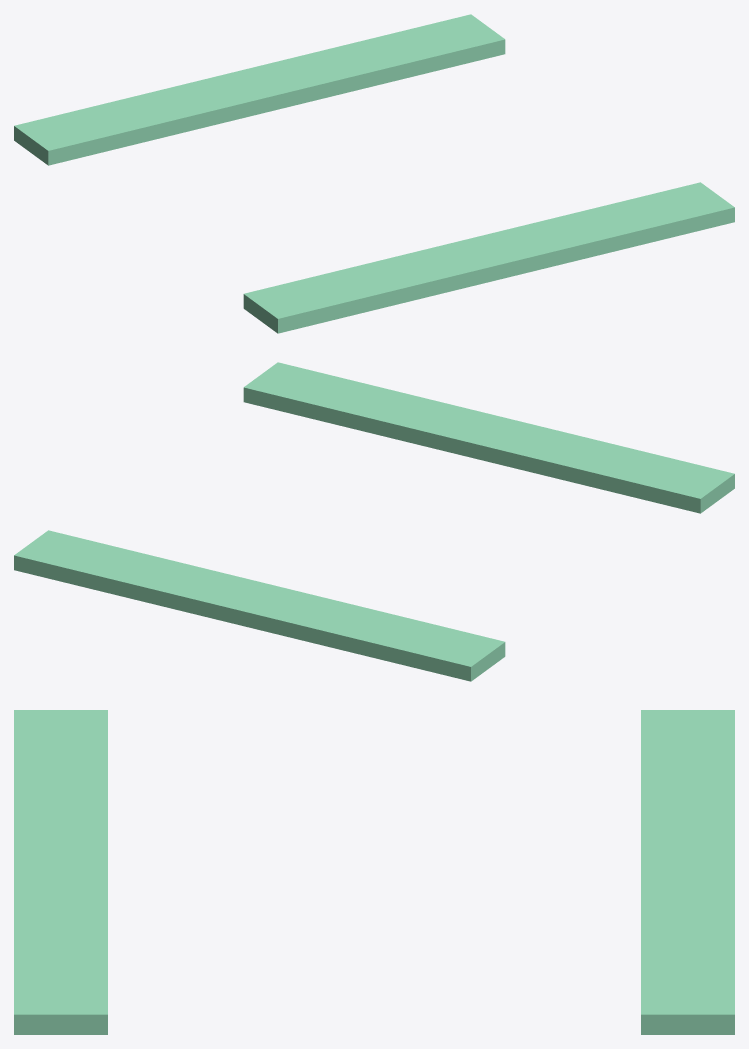
The model's file is ground_grass_straight.fbx.
The picture shows the model from 3 angles, top to bottom: view 1: azimuth 30°, elevation 25°; view 2: azimuth 150°, elevation 25°; view 3: azimuth 270°, elevation 25°; orthographic projection. The views are drawn at different scales.
Visible parts, largest first — view 1: ground_grass_straight; view 2: ground_grass_straight; view 3: ground_grass_straight.
Part boxes in pixels (<box>): ground_grass_straight: <box>14,14,734,333</box>; ground_grass_straight: <box>14,362,734,681</box>; ground_grass_straight: <box>14,710,734,1034</box>.
Size of the model in its own units: 200 by 6.16 by 200.
